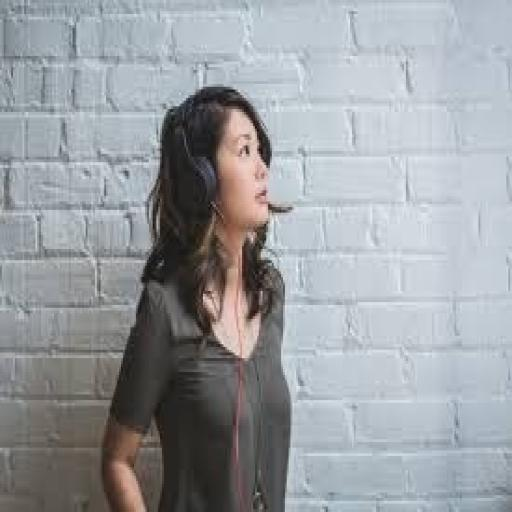listening_to_music: (99, 81, 294, 509)
